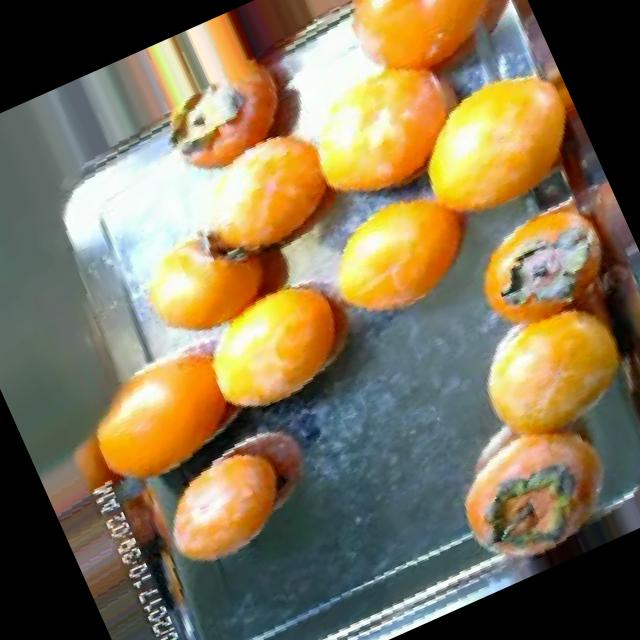Fruit: (378, 44, 606, 251), (172, 242, 392, 440), (292, 158, 516, 352), (136, 413, 348, 590), (192, 0, 408, 94)
